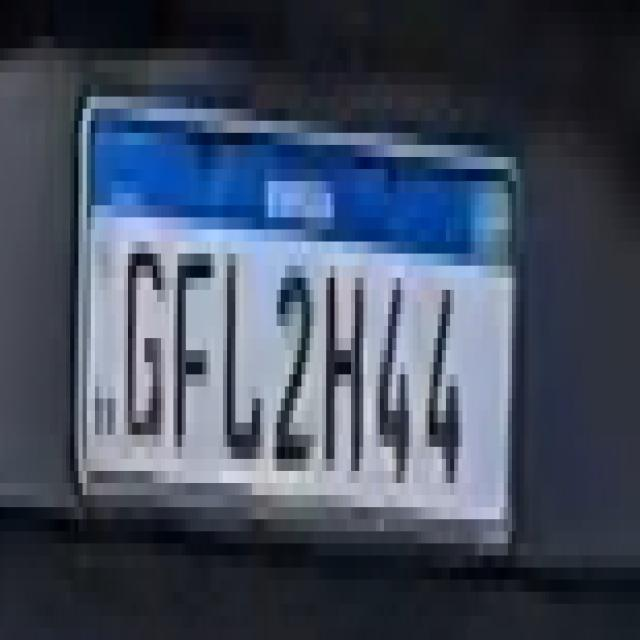Placa_mercosul_carro: (71, 101, 514, 527)
